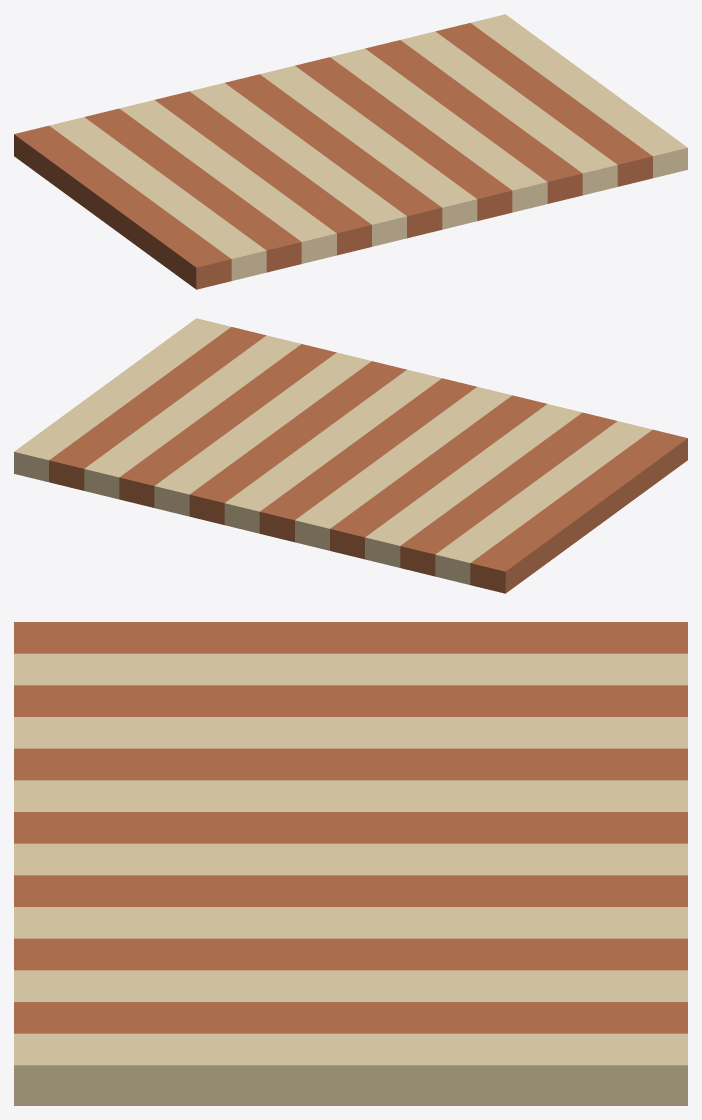
File: prop_stall_4_canopy.glb
3 views of the same model, one above another, from view 1: azimuth 30°, elevation 25°; view 2: azimuth 150°, elevation 25°; view 3: azimuth 270°, elevation 25° (orthographic). The views are drawn at different scales.
Visible parts, largest first — view 1: PROP_Stall_4_Canopy; view 2: PROP_Stall_4_Canopy; view 3: PROP_Stall_4_Canopy.
Boxes of the visible parts, x1,y1,x2,y2 form: PROP_Stall_4_Canopy: (14,14,687,289); PROP_Stall_4_Canopy: (14,318,687,593); PROP_Stall_4_Canopy: (14,622,687,1105).
Size of the model in its own units: 2.8 by 0.12 by 1.8.
